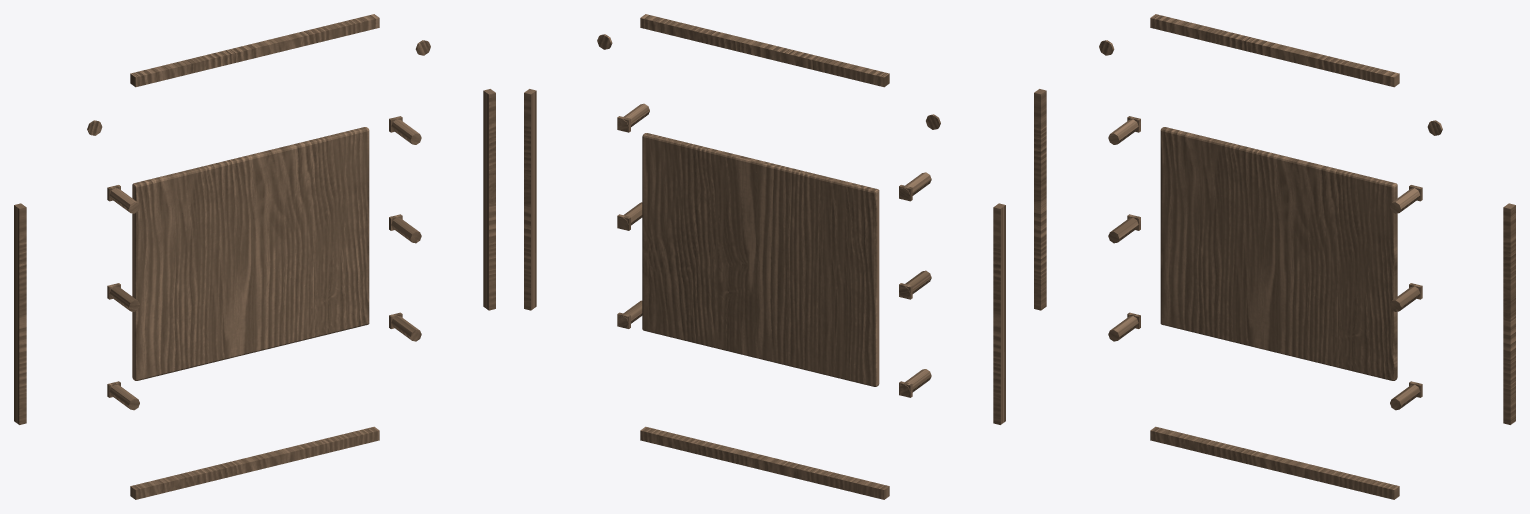
The model's file is weapon_rack.fbx.
The picture shows the model from 3 angles, left to right: view 1: azimuth 30°, elevation 25°; view 2: azimuth 150°, elevation 25°; view 3: azimuth 330°, elevation 25°; orthographic projection.
Parts seen in each view (by area): view 1: weapon_rack; view 2: weapon_rack; view 3: weapon_rack.
Part boxes in pixels (x1,y1,x2,y2): weapon_rack: (14,14,495,499); weapon_rack: (524,14,1005,499); weapon_rack: (1034,14,1515,499).
Bounding box in the file's own units: 1.01 × 0.86 × 0.0975.
Materials: 1 (1 with a texture image).
